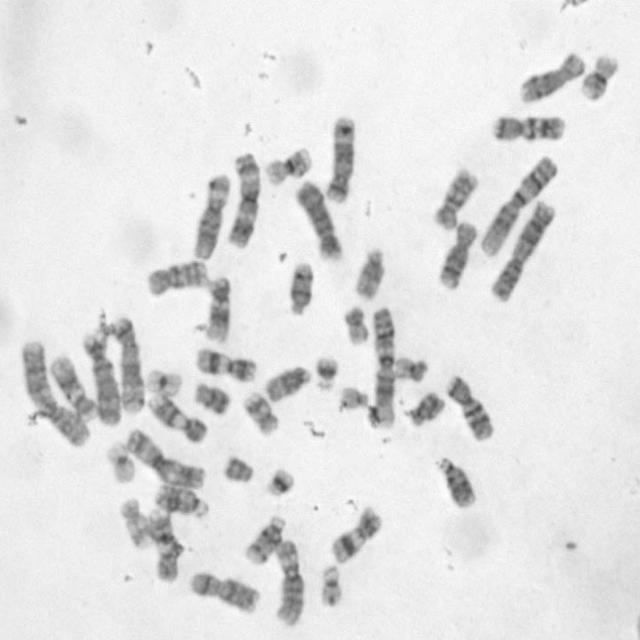A1: (478, 153, 560, 258), (371, 304, 395, 431)
A2: (20, 338, 94, 451), (489, 200, 558, 304)
A3: (124, 424, 208, 492), (226, 149, 263, 249)
B4: (80, 330, 124, 428), (295, 179, 344, 261)
B5: (112, 314, 146, 416), (322, 112, 358, 205)
C10: (430, 164, 480, 232), (146, 260, 208, 297)
C11: (329, 504, 383, 564), (194, 347, 257, 384)
C12: (50, 352, 100, 424), (204, 274, 234, 344)
C6: (192, 172, 232, 262), (270, 539, 308, 628)
C7: (444, 371, 496, 444), (492, 114, 566, 142)
C8: (517, 47, 586, 110), (436, 221, 478, 293)
C9: (147, 389, 209, 444), (144, 506, 180, 583)
D13: (434, 455, 478, 510), (153, 483, 213, 520)
D14: (243, 511, 290, 566), (287, 261, 315, 317)
D15: (352, 247, 387, 301), (262, 365, 311, 402)
E16: (577, 53, 621, 105), (264, 144, 312, 187)
E17: (242, 390, 281, 438), (120, 496, 154, 548)
E18: (406, 389, 446, 428), (193, 380, 231, 417)
F19: (106, 440, 138, 486), (147, 366, 183, 400)
F20: (342, 306, 368, 347), (392, 355, 429, 383)
G21: (264, 466, 300, 500), (311, 355, 342, 393)
G22: (319, 564, 345, 608), (339, 385, 369, 413)
X: (187, 568, 264, 618)
Y: (220, 453, 257, 488)
